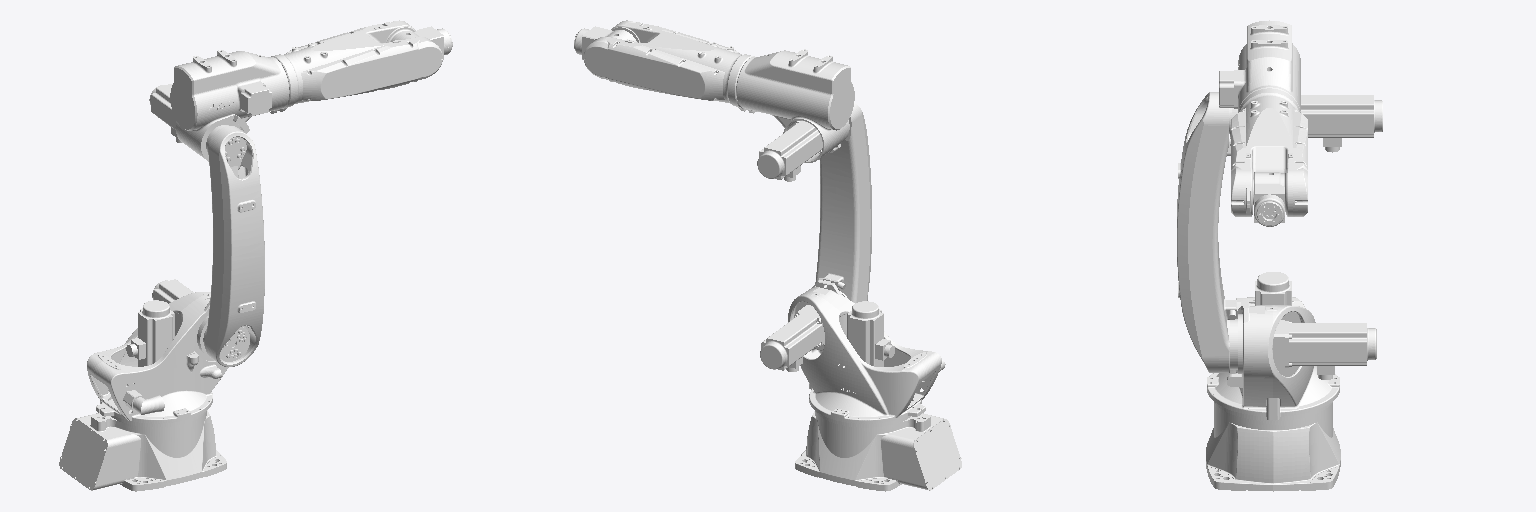
URDF robot description (jari_robot_12kg):
<?xml version="1.0" ?>
<robot name="jari_robot_12kg">

<!-- LINK -->
<link name="base_link">
    <visual>
        <origin xyz="0 0 0" rpy="0 0 0" />
        <geometry>
        <mesh filename="package://jari_robot_12kg_description/meshes/0_base.stl"/>
        </geometry>
        <material name="jari_robot_color">
            <color rgba="1.2 1.2 1.2 1"/>
        </material>
    </visual>
</link>

<link name="base_to_arm1_link">
    <visual>
        <origin xyz="0 0 -0.198" rpy="0 0 0" />
        <geometry>
        <mesh filename="package://jari_robot_12kg_description/meshes/1_base_to_arm1.stl"/>
        </geometry>
        <material name="jari_robot_color" />
    </visual>
</link>

<link name="arm1_link">
    <visual>
        <origin xyz="-0.185 0 -0.433" rpy="0 0 0" />
        <geometry>
        <mesh filename="package://jari_robot_12kg_description/meshes/2_arm1.stl"/>
        </geometry>
        <material name="jari_robot_color" />
    </visual>
</link>

<link name="elbow_link">
    <visual>
        <origin xyz="-0.185 0 -1.103" rpy="0 0 0" />
        <geometry>
        <mesh filename="package://jari_robot_12kg_description/meshes/3_elbow.stl"/>
        </geometry>
        <material name="jari_robot_color" />
    </visual>
</link>

<link name="arm2_link">
    <visual>
        <origin xyz="-0.4305 0.01 -1.218" rpy="0 0 0" />
        <geometry>
        <mesh filename="package://jari_robot_12kg_description/meshes/4_arm2.stl"/>
        </geometry>
        <material name="jari_robot_color" />
    </visual>
</link>

<link name="wrist_link">
    <visual>
        <origin xyz="-0.91 0.01 -1.218" rpy="0 0 0" />
        <geometry>
        <mesh filename="package://jari_robot_12kg_description/meshes/5_wrist.stl"/>
        </geometry>
        <material name="jari_robot_color" />
    </visual>
</link>

<link name="wrist_to_tool_link">
    <visual>
        <origin xyz="-1.0264 0.01 -1.218" rpy="0 0 0" />
        <geometry>
        <mesh filename="package://jari_robot_12kg_description/meshes/6_tool.stl"/>
        </geometry>
        <material name="jari_robot_color" />
    </visual>
</link>

<link name="tool_link" />

<!-- JOINT -->
<joint name="base_joint" type="revolute">
    <origin rpy="0 0 0" xyz="0 0 0.198"/>
    <parent link="base_link"/>
    <child link="base_to_arm1_link"/>
    <axis xyz="0 0 1"/>
	<!-- limit: -170 ~ 170 -->
    <limit effort="0" lower="-2.96705972839036" upper="2.96705972839036" velocity="10"/>
</joint>

<joint name="base_arm1_joint" type="revolute">
    <origin rpy="0 0 0" xyz="0.185 0 0.235"/>
    <parent link="base_to_arm1_link"/>
    <child link="arm1_link"/>
    <axis xyz="0 1 0"/>
	<!-- limit: -110 ~ 110 -->
    <limit effort="0" lower="-1.9198621771937625" upper="1.9198621771937625" velocity="10"/>
</joint>

<joint name="arm1_elbow_joint" type="revolute">
    <origin rpy="0 0 0" xyz="0 0 0.67"/>
    <parent link="arm1_link"/>
    <child link="elbow_link"/>
    <axis xyz="0 1 0"/>
	<!-- limit: -220 ~ 40 -->
    <limit effort="0" lower="-3.839724354387525" upper="0.6981317007977318" velocity="10"/>
</joint>

<joint name="elbow_arm2_joint" type="revolute">
    <origin rpy="0 0 0" xyz="0.2455 -0.01 0.115"/>
    <parent link="elbow_link"/>
    <child link="arm2_link"/>
    <axis xyz="1 0 0"/>
	<!-- limit: -180 ~ 180 -->
    <limit effort="0" lower="-3.141592653589793" upper="3.141592653589793" velocity="10"/>
</joint>

<joint name="arm2_wrist_joint" type="revolute">
    <origin rpy="0 0 0" xyz="0.4795 0 0"/>
    <parent link="arm2_link"/>
    <child link="wrist_link"/>
    <axis xyz="0 1 0"/>
	<!-- limit: -120 ~ 120 -->
    <limit effort="0" lower="-2.0943951023931953" upper="2.0943951023931953" velocity="10"/>
</joint>

<joint name="wrist_tool_joint" type="revolute">
    <origin rpy="0 0 0" xyz="0.1164 0 0"/>
    <parent link="wrist_link"/>
    <child link="wrist_to_tool_link"/>
    <axis xyz="1 0 0"/>
	<!-- limit: -360 ~ 360 -->
    <limit effort="0" lower="-6.283185307179586" upper="6.283185307179586" velocity="10"/>
</joint>

<joint name="tool_joint" type="fixed">
	<origin rpy="0 0 0" xyz="0 0 0"/>
    <parent link="wrist_to_tool_link"/>
    <child link="tool_link"/>
</joint>

</robot>

--- Render facts (derived) ---
The picture shows the robot from 3 angles, left to right: view 1: azimuth 30°, elevation 25°; view 2: azimuth 150°, elevation 25°; view 3: azimuth 270°, elevation 25°; orthographic projection.
Robot: jari_robot_12kg — 8 links, 7 joints (6 revolute, 1 fixed); root link base_link; default pose: every joint at zero.
Visible links, largest first — view 1: base_to_arm1_link, arm1_link, base_link, elbow_link, arm2_link, wrist_link; view 2: base_to_arm1_link, elbow_link, base_link, arm2_link, arm1_link, wrist_link; view 3: base_to_arm1_link, arm1_link, base_link, elbow_link, arm2_link, wrist_link, wrist_to_tool_link.
Boxes of the visible links, bbox=[...] form: base_to_arm1_link: bbox=[87, 279, 228, 426]; arm1_link: bbox=[205, 126, 264, 366]; base_link: bbox=[59, 410, 226, 491]; elbow_link: bbox=[149, 50, 289, 161]; arm2_link: bbox=[271, 20, 442, 111]; wrist_link: bbox=[393, 26, 447, 59]; base_to_arm1_link: bbox=[760, 280, 945, 427]; elbow_link: bbox=[736, 49, 854, 181]; base_link: bbox=[795, 411, 961, 491]; arm2_link: bbox=[584, 20, 754, 111]; arm1_link: bbox=[815, 102, 871, 302]; wrist_link: bbox=[579, 26, 636, 59]; base_to_arm1_link: bbox=[1207, 272, 1376, 420]; arm1_link: bbox=[1177, 92, 1236, 372]; base_link: bbox=[1206, 403, 1340, 491]; elbow_link: bbox=[1219, 20, 1382, 152]; arm2_link: bbox=[1231, 88, 1307, 216]; wrist_link: bbox=[1253, 172, 1284, 222]; wrist_to_tool_link: bbox=[1254, 196, 1284, 226].
Size in the robot's own frame: 1.35 by 0.5498 by 1.35 metres.
7 mesh visuals loaded from 7 distinct referenced files (7 binary STL).
